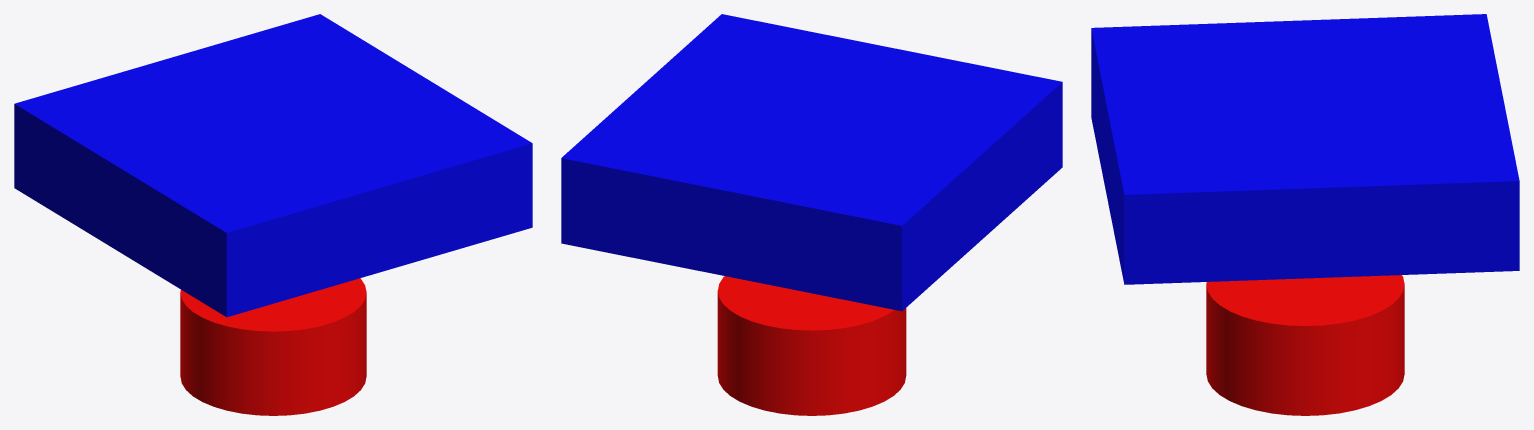
Rendered from cccpin.glb.
3 renders of one model, left to right at view 1: azimuth 30°, elevation 25°; view 2: azimuth 150°, elevation 25°; view 3: azimuth 270°, elevation 25°, orthographic. The views are drawn at different scales.
Bounding box in the file's own units: 1.08 × 0.75 × 1.08.
